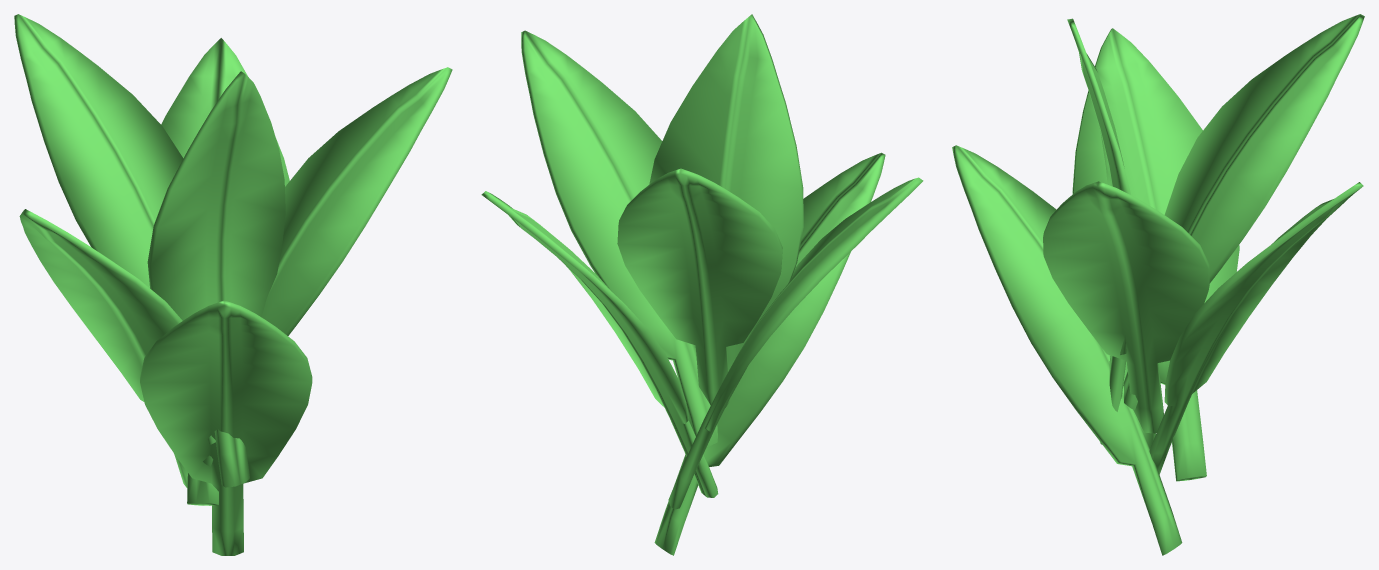
Rendered from light1.fbx.
The picture shows the model from 3 angles, left to right: view 1: azimuth 30°, elevation 25°; view 2: azimuth 150°, elevation 25°; view 3: azimuth 270°, elevation 25°; orthographic projection. The views are drawn at different scales.
Parts seen in each view (by area): view 1: ha; view 2: ha; view 3: ha.
Boxes of the visible parts, x1=… form: ha: x1=14, y1=14, x2=452, y2=555; ha: x1=481, y1=14, x2=923, y2=555; ha: x1=952, y1=14, x2=1364, y2=555.
Bounding box in the file's own units: 341 × 407 × 295.
